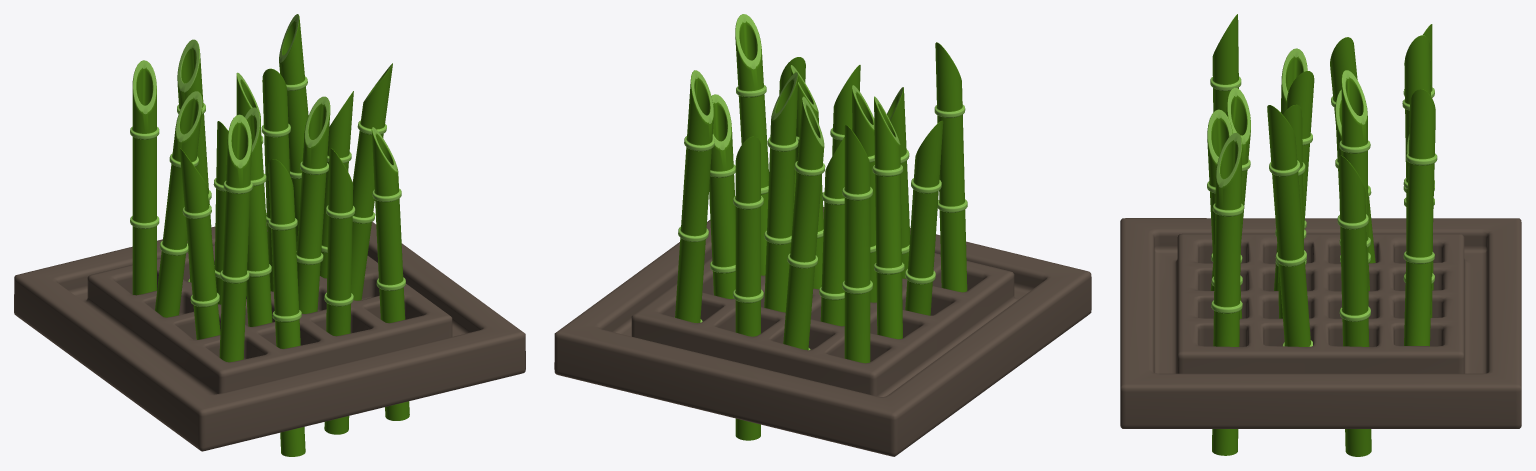
Rendered from Tile_Trap.fbx.
3 renders of one model, left to right at view 1: azimuth 30°, elevation 25°; view 2: azimuth 150°, elevation 25°; view 3: azimuth 270°, elevation 25°, orthographic. The views are drawn at different scales.
Parts seen in each view (by area): view 1: Cylinder.002; view 2: Cylinder.002; view 3: Cylinder.002.
Boxes of the visible parts, x1=… form: Cylinder.002: x1=14, y1=14, x2=525, y2=456; Cylinder.002: x1=554, y1=14, x2=1091, y2=456; Cylinder.002: x1=1120, y1=14, x2=1521, y2=456.
Bounding box in the file's own units: 135 × 136 × 135.
1 material, 1 textured.
